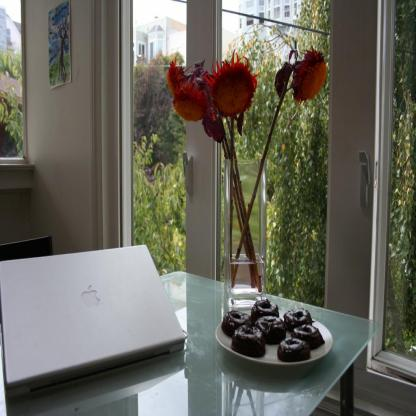board: (1, 244, 186, 394)
